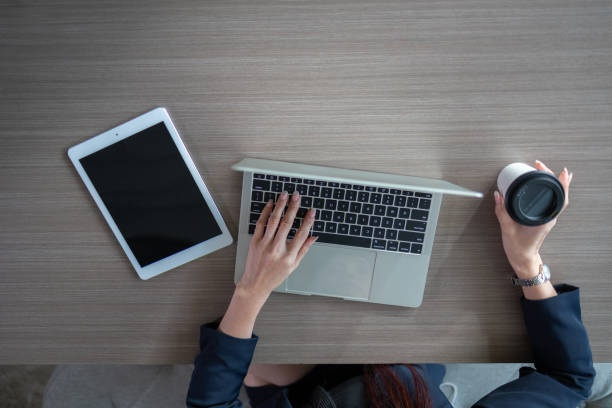keyboard: (249, 173, 432, 255)
laptop: (232, 157, 481, 309)
phone: (65, 106, 235, 282)
